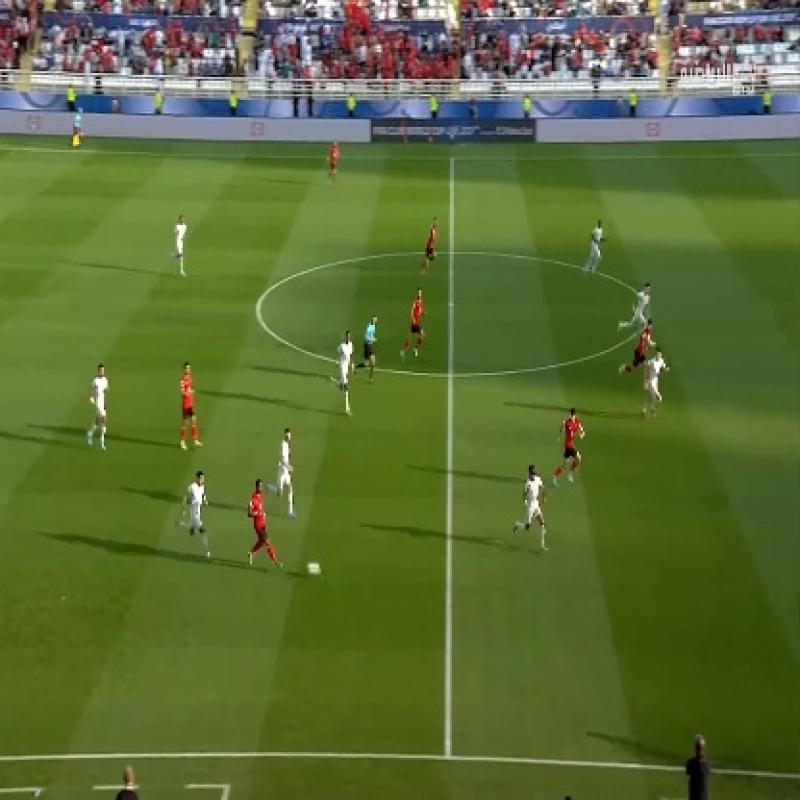13: (438, 148, 468, 168)
14: (441, 242, 461, 266)
15: (434, 364, 460, 388)
16: (421, 730, 473, 780)
c: (241, 292, 274, 322), (632, 293, 658, 329)
